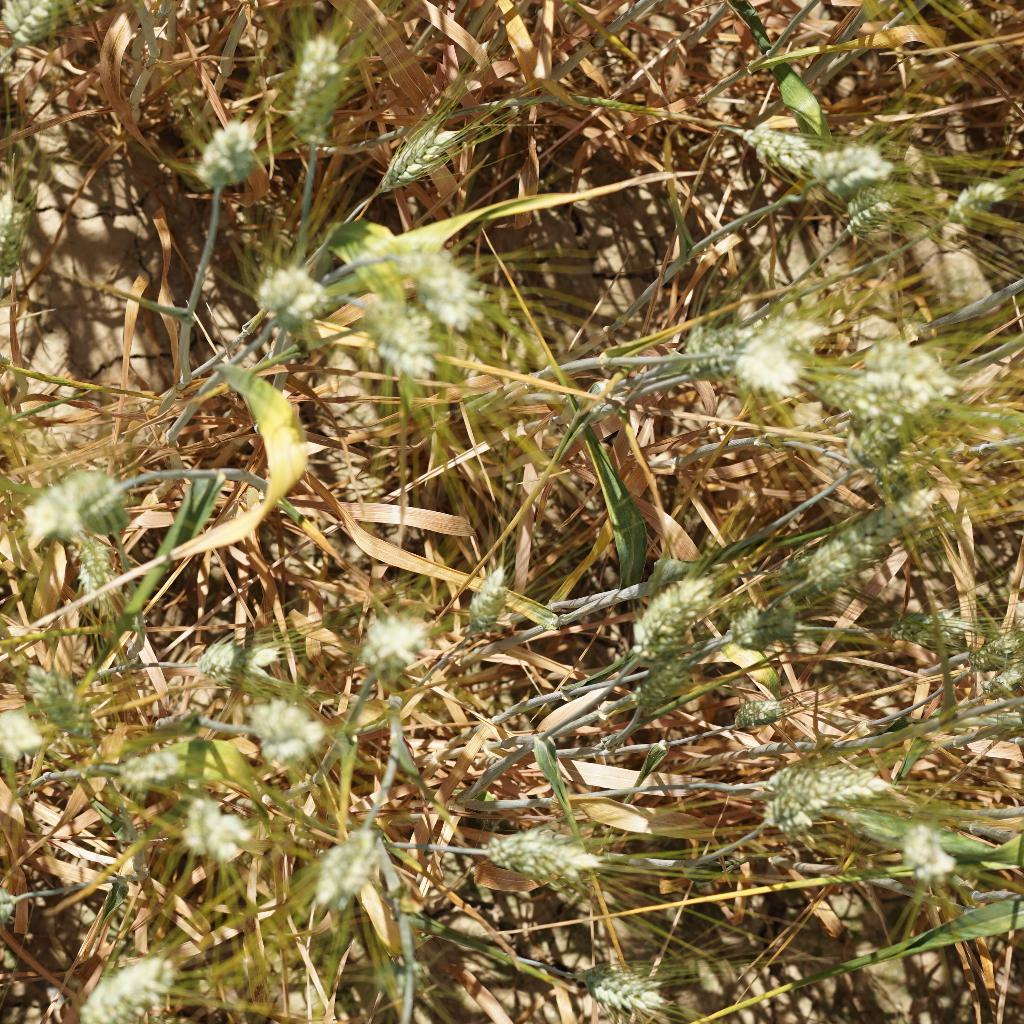0-0: (785, 471, 946, 586), (374, 238, 492, 339), (752, 747, 904, 821), (276, 22, 354, 144), (8, 650, 107, 744), (23, 459, 133, 542), (62, 950, 182, 1024), (470, 821, 608, 884), (354, 292, 452, 380), (624, 564, 716, 654), (183, 97, 275, 186), (365, 120, 471, 195), (576, 942, 680, 1017), (185, 623, 282, 700), (313, 800, 382, 908), (242, 256, 332, 335), (721, 103, 811, 180), (240, 699, 343, 766), (845, 324, 961, 382), (459, 548, 535, 635), (793, 134, 886, 201), (721, 324, 798, 404), (875, 597, 979, 656), (64, 527, 133, 613), (176, 796, 256, 870), (628, 638, 699, 720), (859, 365, 955, 419), (350, 604, 421, 676), (717, 590, 800, 651), (886, 817, 959, 886), (856, 408, 933, 471), (0, 0, 97, 49), (828, 376, 903, 434), (114, 741, 186, 801), (727, 691, 808, 740), (945, 165, 1006, 227), (683, 309, 737, 377), (0, 187, 36, 284), (841, 178, 897, 240), (0, 697, 47, 762), (0, 870, 38, 945), (970, 617, 1024, 663), (765, 798, 821, 840), (979, 657, 1024, 696)
